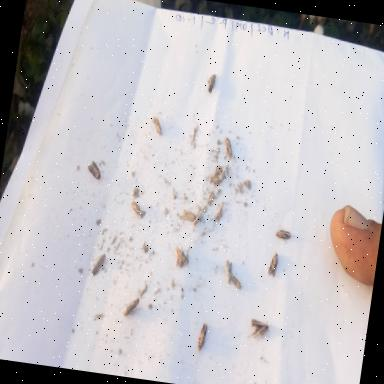pbw: (87, 246, 109, 284), (84, 153, 106, 188), (246, 316, 274, 342), (125, 196, 148, 226), (194, 318, 211, 358), (219, 134, 238, 164), (170, 244, 191, 270), (273, 222, 298, 243), (120, 294, 140, 319), (148, 111, 164, 142), (264, 251, 280, 281), (222, 256, 235, 286), (203, 69, 218, 94), (228, 272, 244, 294), (178, 206, 197, 224), (192, 206, 203, 226)
